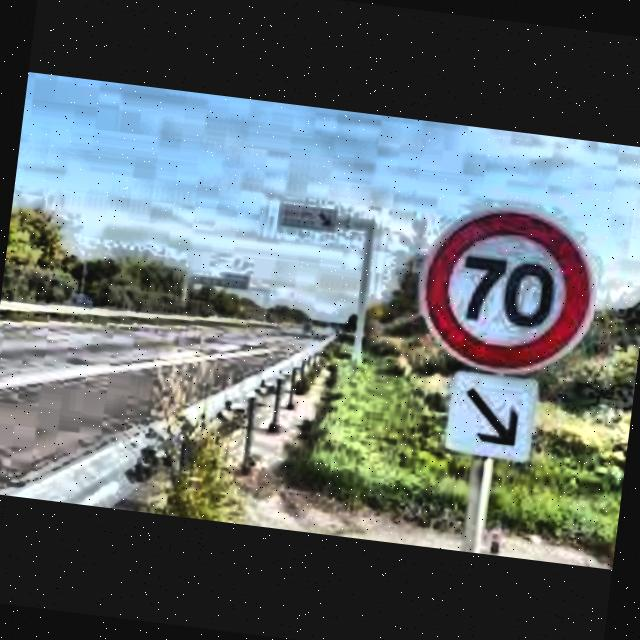speed_70: (411, 195, 605, 382)
